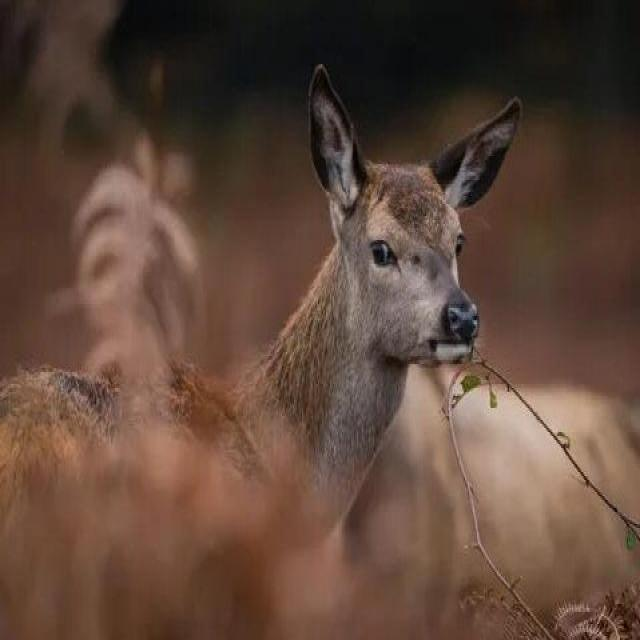deer: (2, 85, 544, 640)
